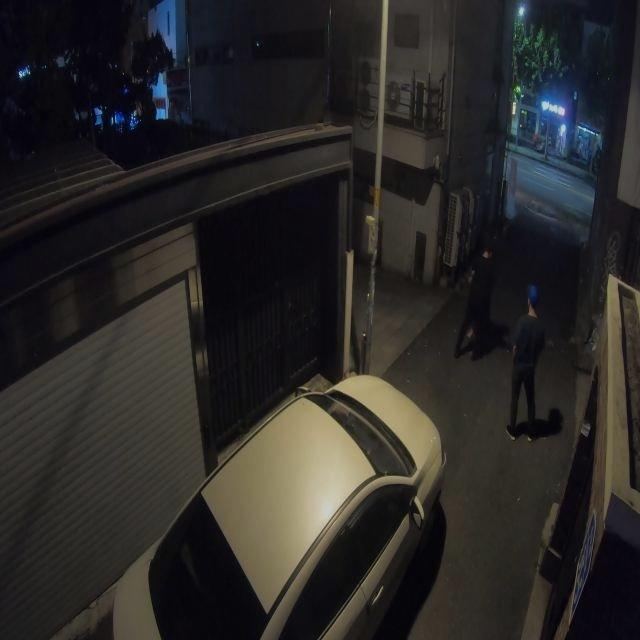non-fight: (506, 281, 546, 442), (456, 244, 494, 344)
